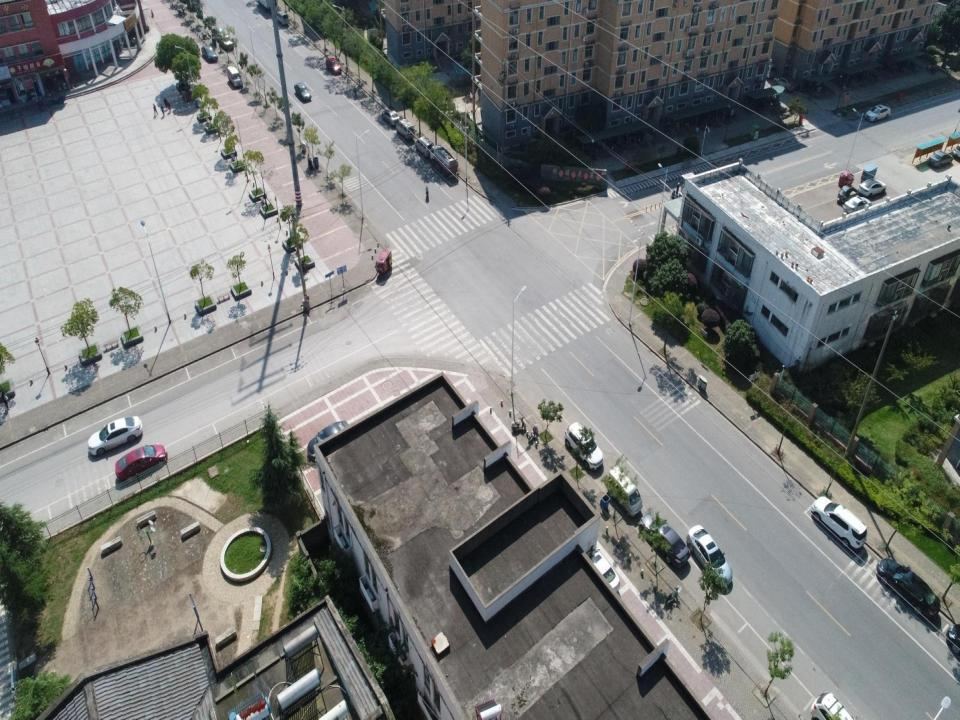car: (875, 557, 941, 620), (811, 496, 867, 552), (686, 524, 732, 588), (638, 512, 690, 568), (87, 415, 142, 457), (114, 443, 168, 483), (581, 542, 620, 594), (564, 421, 603, 471), (307, 419, 351, 459), (810, 691, 854, 719), (858, 178, 887, 198), (842, 195, 872, 214), (864, 103, 891, 123), (928, 150, 954, 168), (772, 76, 796, 92), (294, 82, 312, 102), (382, 109, 400, 127), (201, 44, 217, 63), (326, 57, 342, 75), (196, 8, 203, 19)
truck: (430, 144, 458, 179)
van: (607, 465, 643, 519), (212, 26, 234, 52), (396, 118, 415, 140), (415, 136, 434, 158), (226, 65, 244, 88), (760, 58, 775, 79), (272, 9, 290, 26)
